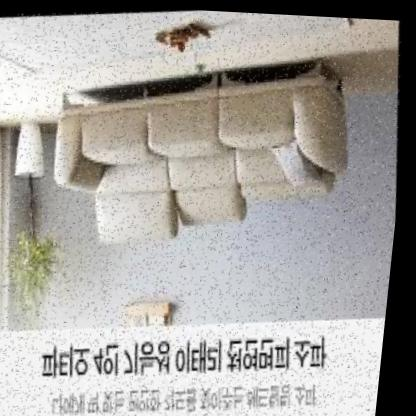Sofa: (31, 22, 380, 292)
